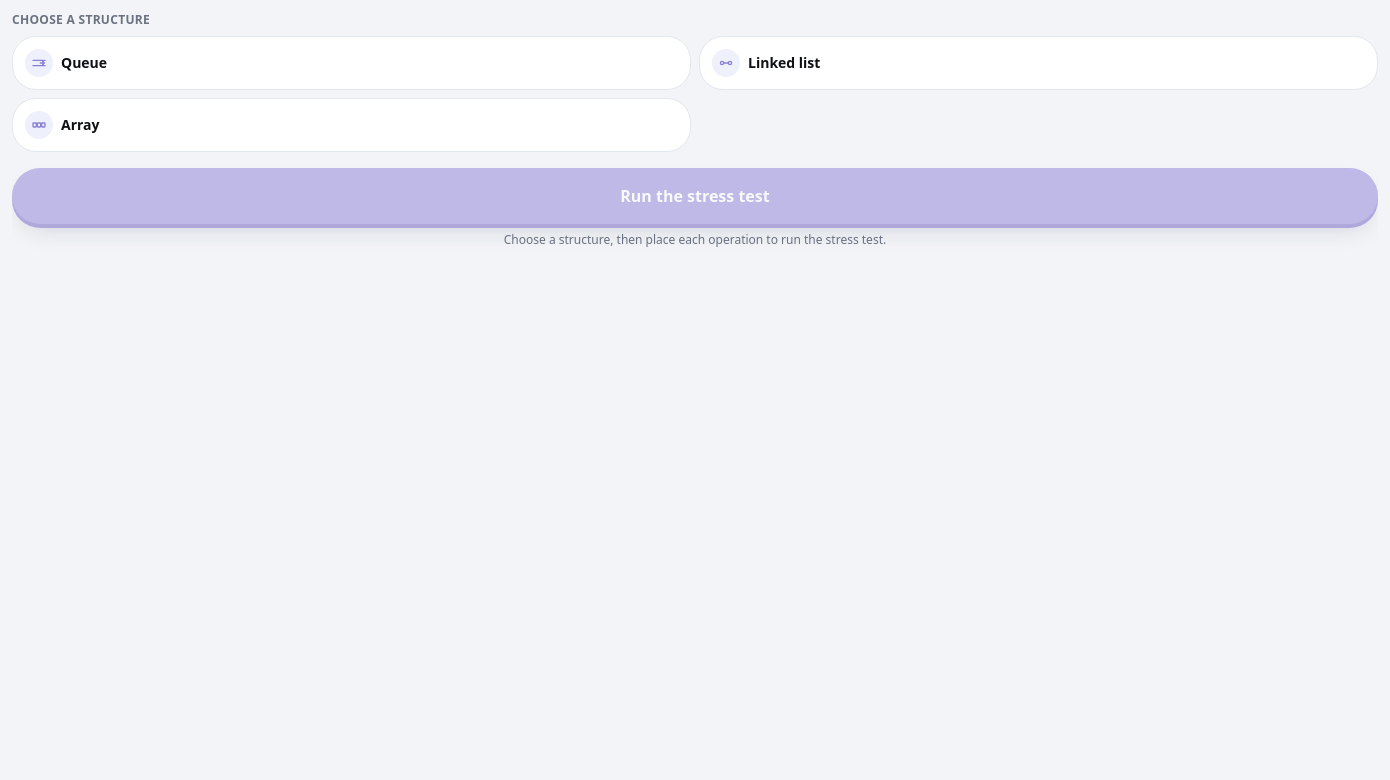
Scenario: DesignBoard tap-to-place › enables Run only once both required ops are placed, and echoes each placement
Expected: the button "Run the stress test" is disabled, [12, 168, 1378, 224]
Note: Choose the queue structure.
Click the button "Queue".
click(84, 62)  # box [12, 36, 691, 90]
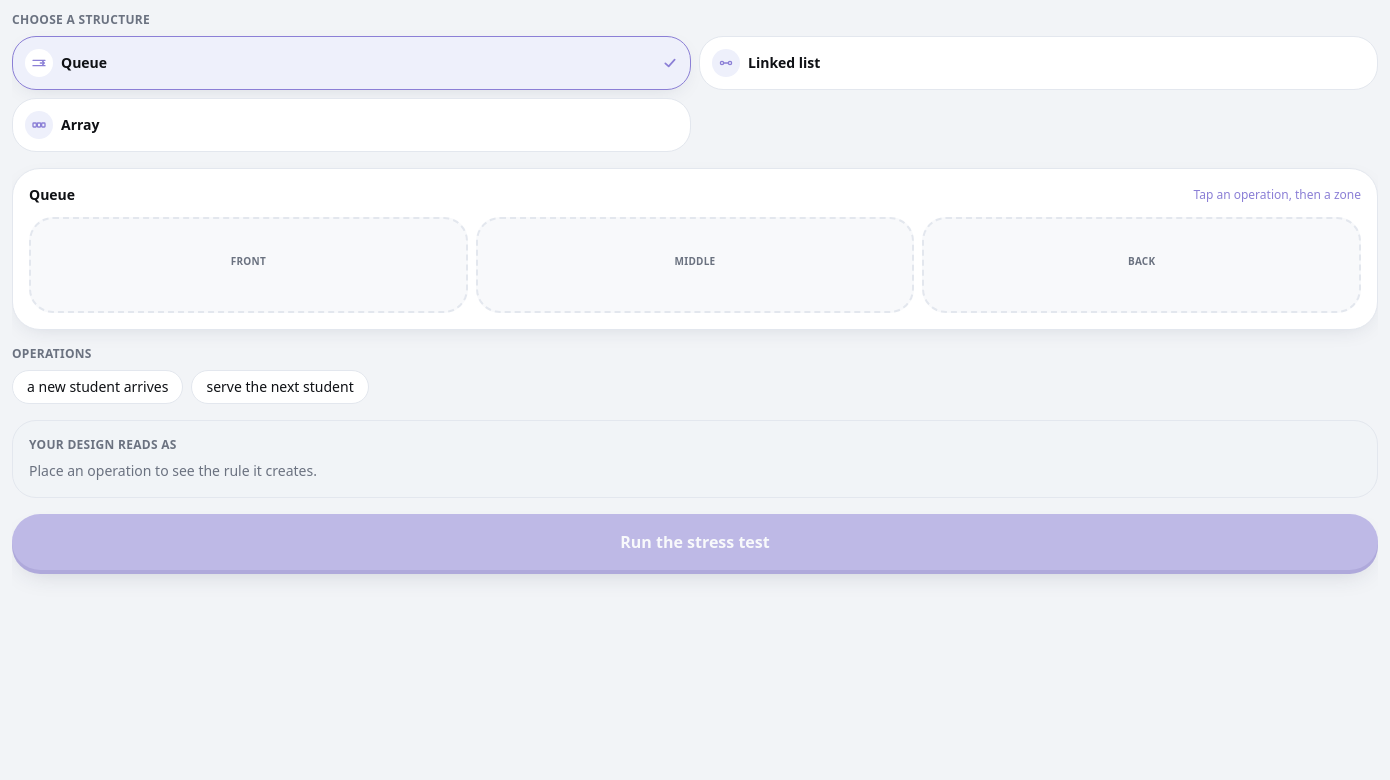
Expected: the button "Run the stress test" is disabled, [12, 514, 1378, 570]
Note: Arm "a new student arrives" and drop it at the Back zone.
Click the button "a new student arrives".
click(98, 387)  # box [12, 370, 183, 404]
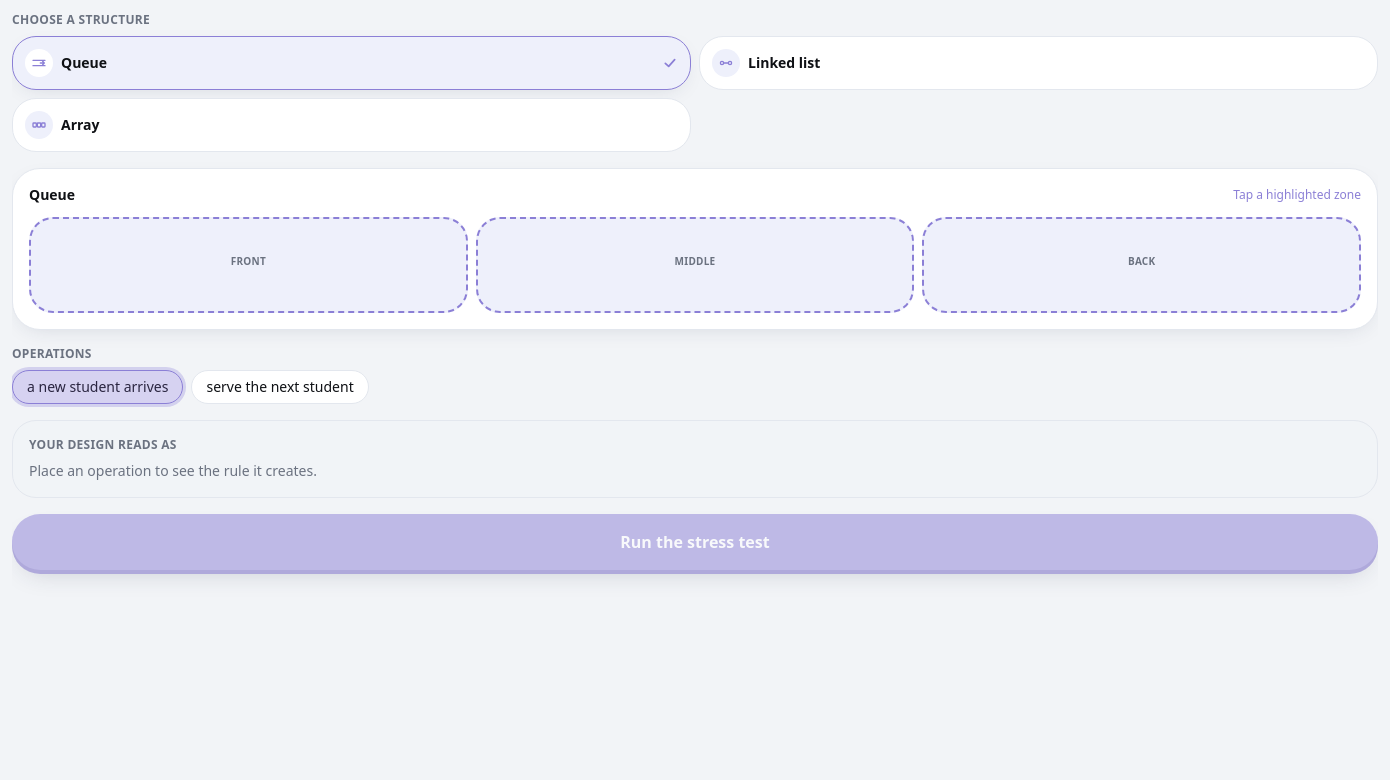
Click the button named "place at back".
click(1142, 265)  # box [924, 219, 1359, 311]
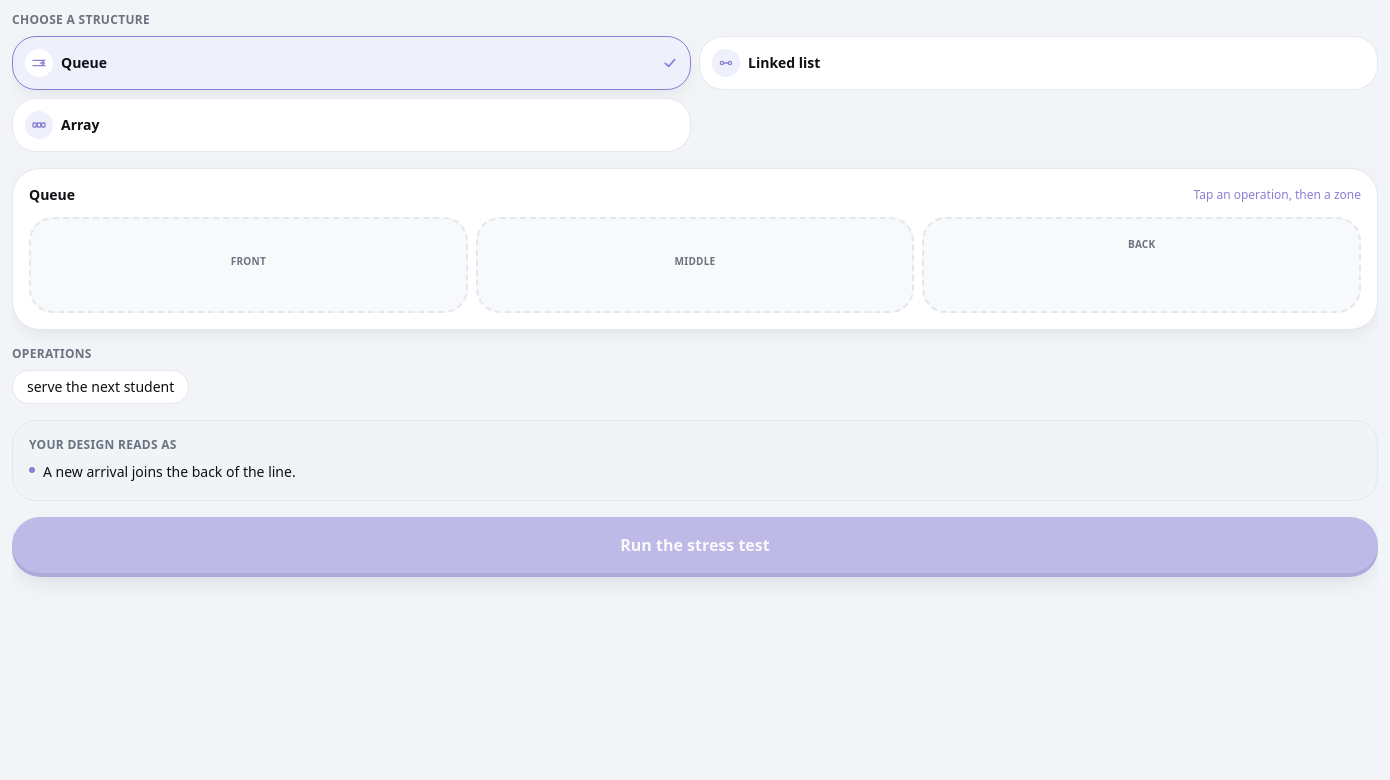
Expected: the button "Run the stress test" is disabled, [12, 517, 1378, 573]
Note: Arm "serve the next student" and drop it at the Front zone.
Click the button "serve the next student".
click(101, 387)  # box [12, 370, 189, 404]
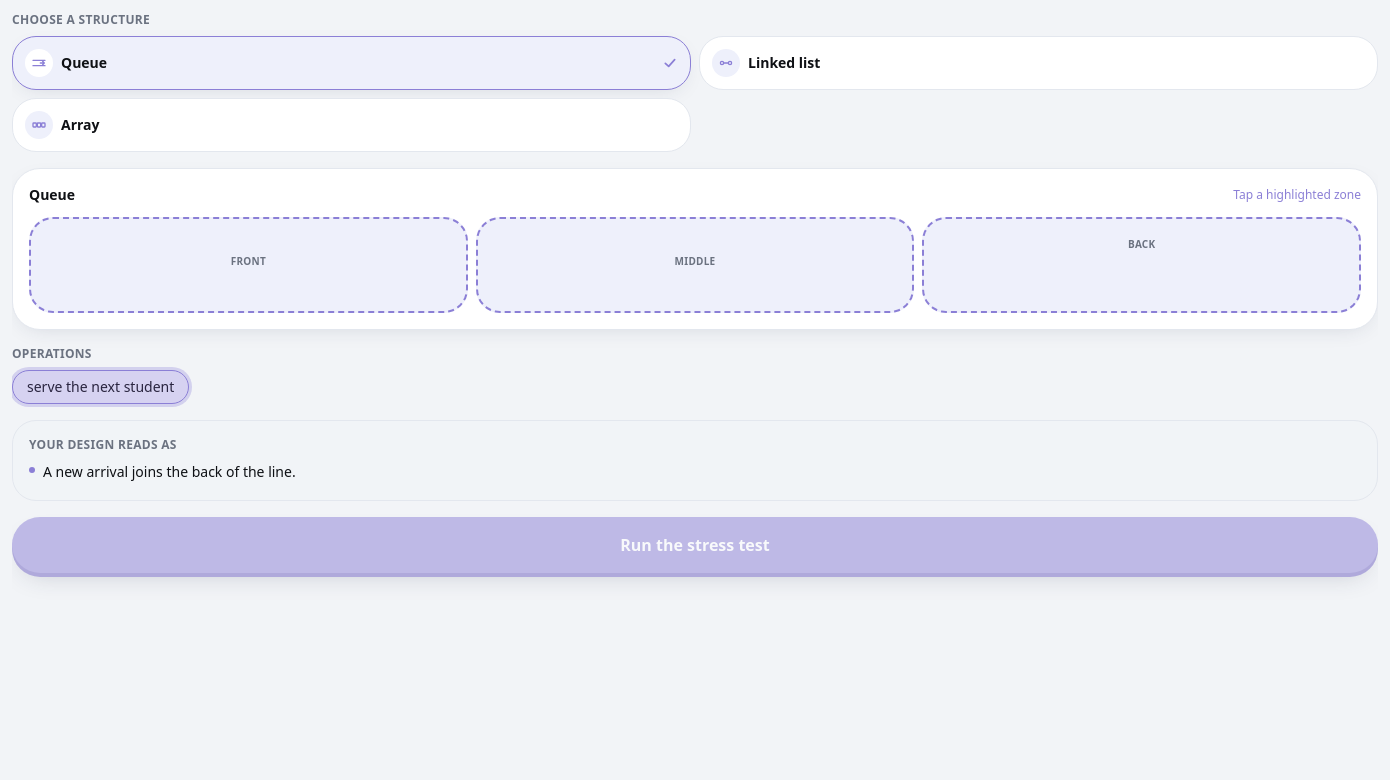
Click the button named "place at front".
click(248, 265)  # box [31, 219, 466, 311]
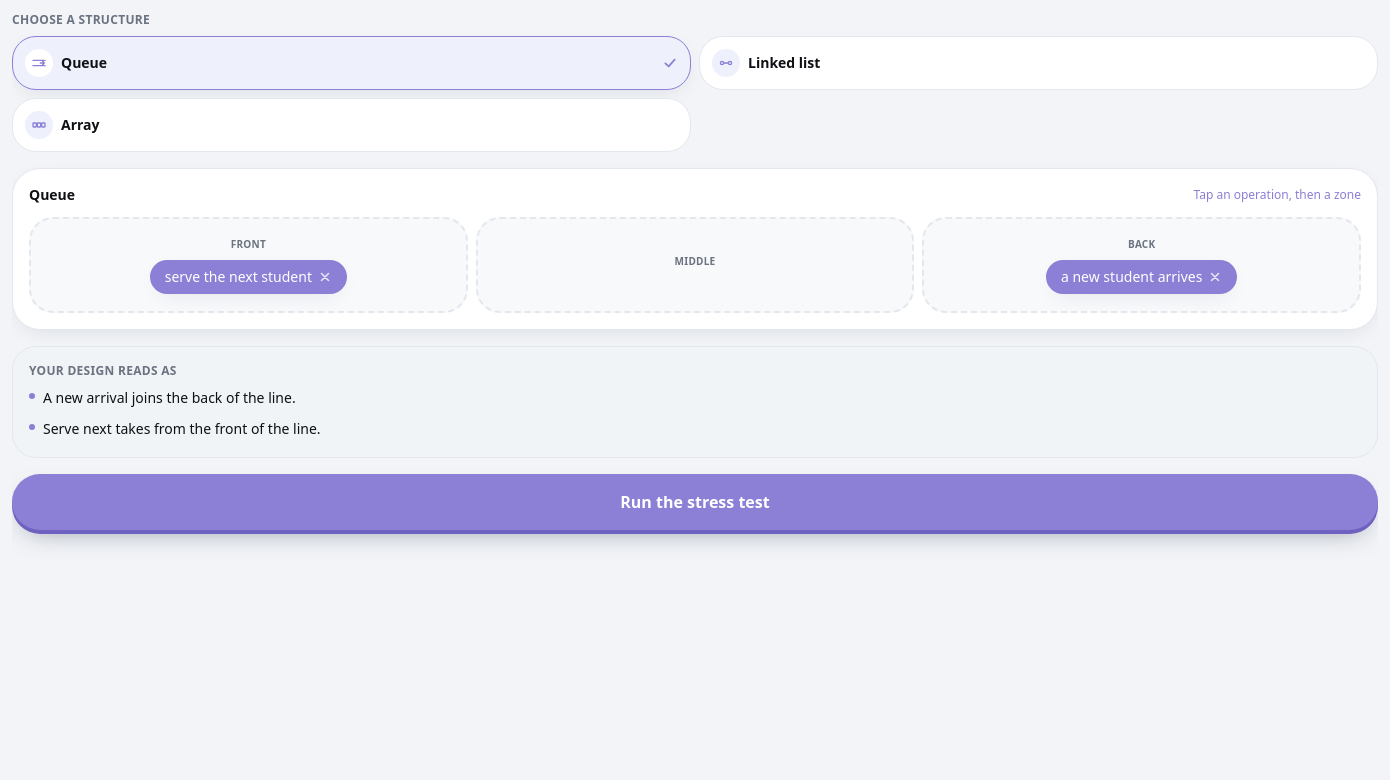
Expected: the text "A new arrival joins the back of the line." is shown, [43, 387, 296, 410]
Expected: the button "Run the stress test" is enabled, [12, 474, 1378, 530]
Expected: the text "Serve next takes from the front of the line." is shown, [43, 418, 321, 441]
